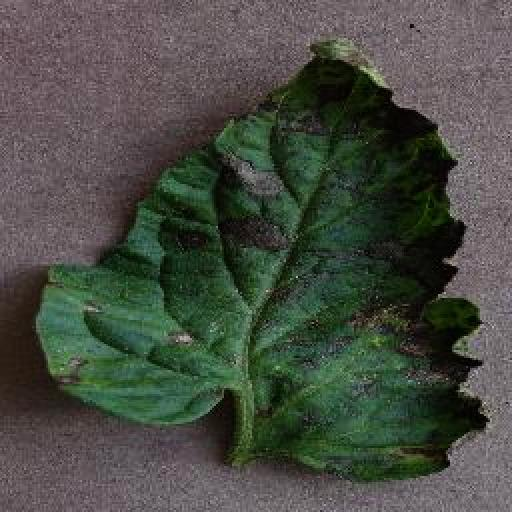disease_tomato: (34, 32, 494, 488)
